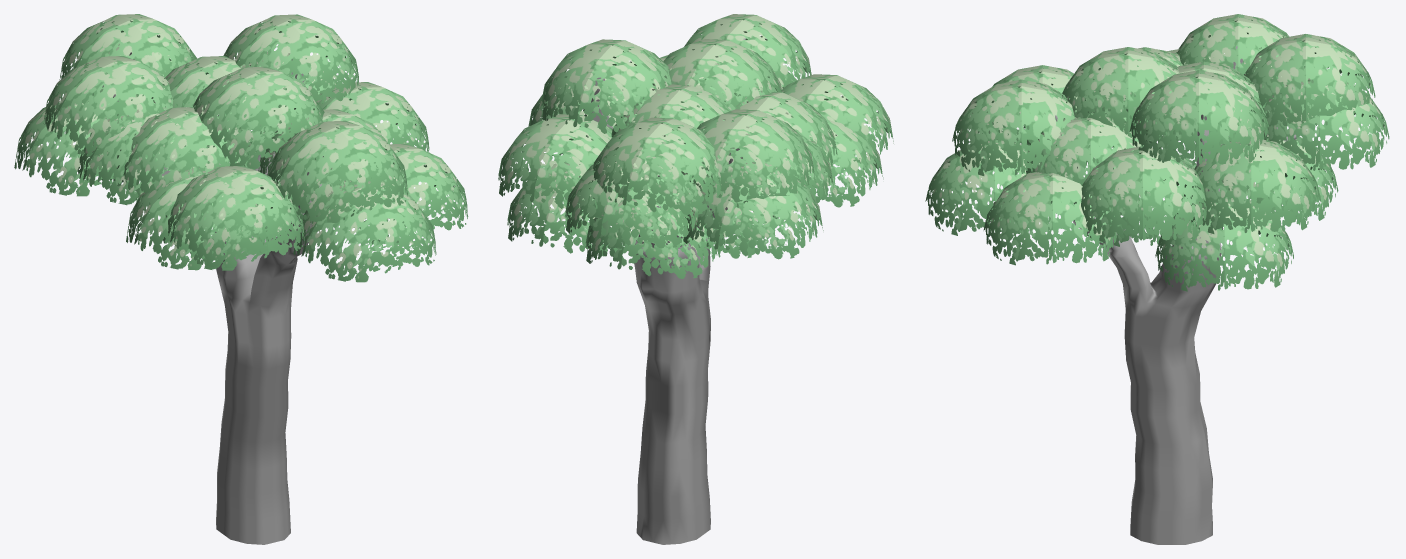
The model's file is tree2_leaved.fbx.
The picture shows the model from 3 angles, left to right: view 1: azimuth 30°, elevation 25°; view 2: azimuth 150°, elevation 25°; view 3: azimuth 270°, elevation 25°; orthographic projection.
Visible parts, largest first — view 1: tree_leaved:Leaves1, polySurface21; view 2: tree_leaved:Leaves1, polySurface21; view 3: tree_leaved:Leaves1, polySurface21.
Part boxes in pixels (x1=…): tree_leaved:Leaves1: x1=14, y1=14, x2=468, y2=282; polySurface21: x1=102, y1=52, x2=323, y2=544; tree_leaved:Leaves1: x1=498, y1=14, x2=893, y2=278; polySurface21: x1=591, y1=38, x2=745, y2=544; tree_leaved:Leaves1: x1=925, y1=14, x2=1389, y2=291; polySurface21: x1=1031, y1=46, x2=1301, y2=544.
Size of the model in its own units: 1424 by 1939 by 1724.
